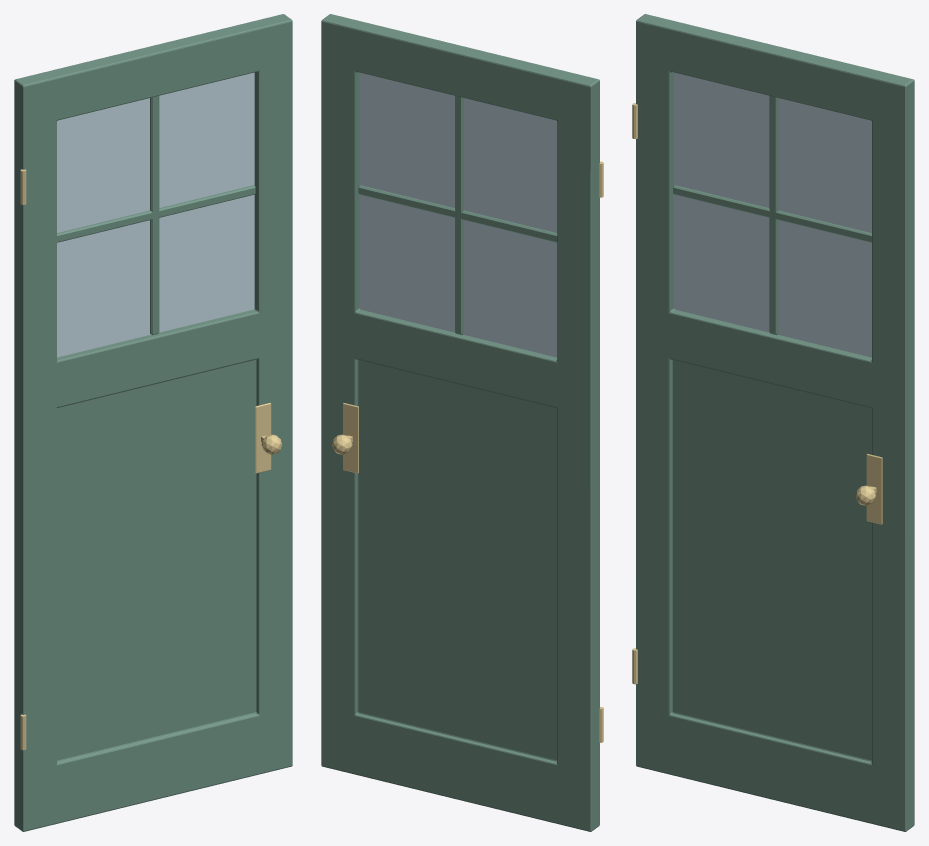
Rendered from door_leaf_back.glb.
3 renders of one model, left to right at view 1: azimuth 30°, elevation 25°; view 2: azimuth 150°, elevation 25°; view 3: azimuth 330°, elevation 25°, orthographic.
Parts seen in each view (by area): view 1: door_leaf_back_door, door_leaf_back_glass, door_leaf_back_brass; view 2: door_leaf_back_door, door_leaf_back_glass, door_leaf_back_brass; view 3: door_leaf_back_door, door_leaf_back_glass, door_leaf_back_brass.
Boxes of the visible parts, x1,y1,x2,y2 form: door_leaf_back_door: [14, 14, 292, 831]; door_leaf_back_glass: [57, 72, 254, 357]; door_leaf_back_brass: [20, 169, 282, 750]; door_leaf_back_door: [321, 14, 599, 831]; door_leaf_back_glass: [359, 72, 557, 357]; door_leaf_back_brass: [332, 161, 603, 742]; door_leaf_back_door: [636, 14, 914, 831]; door_leaf_back_glass: [674, 72, 871, 357]; door_leaf_back_brass: [632, 103, 882, 684].
Bounding box in the file's own units: 0.848 × 2.22 × 0.206.
